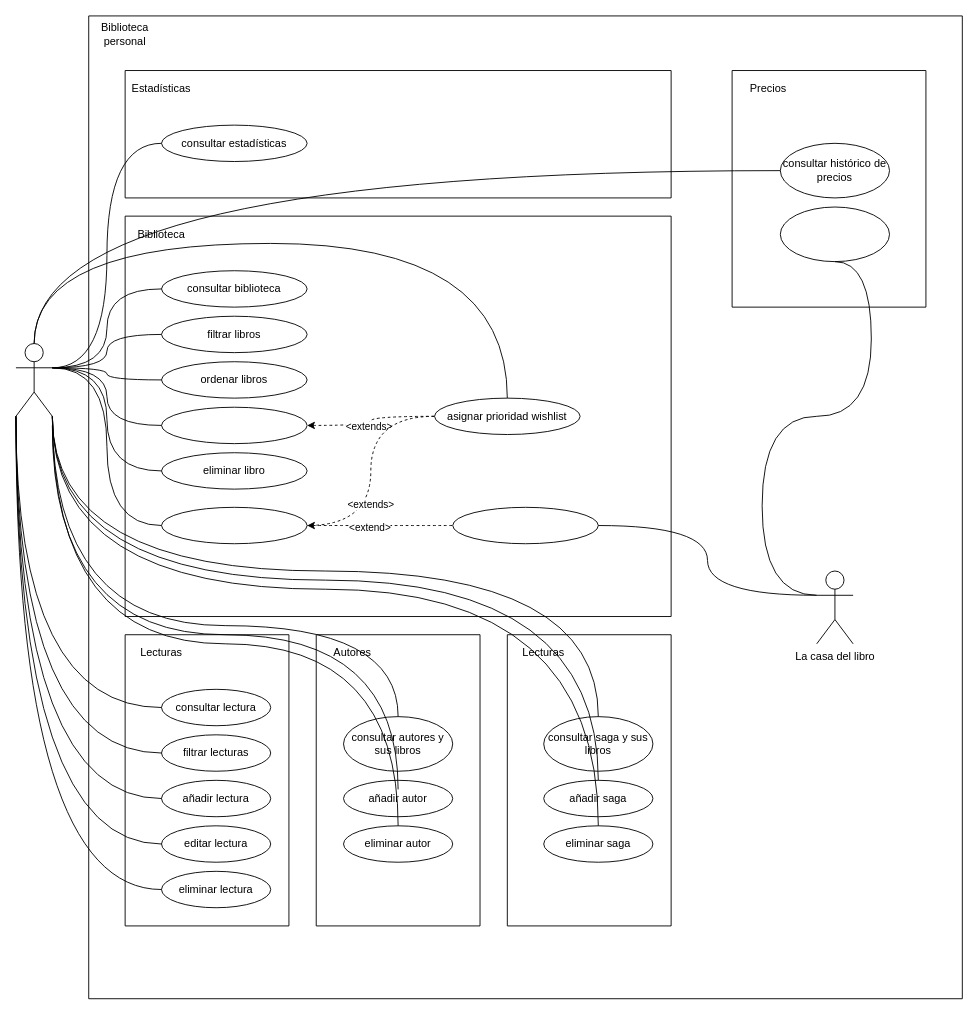
Some shapes in this 978 by 1015 pixel diagram are drawn without their labels. The shapes that lost their labels are listed below. From the top down, each one's centre as x and y in pixels, then its label:
At point 834,234: "actualizar histórico de precios".
At point 33,379: "Usuario".
At point 234,425: "editar libro".
At point 234,525: "añadir libro".
At point 525,525: "autorelleno de datos por ISBN".
